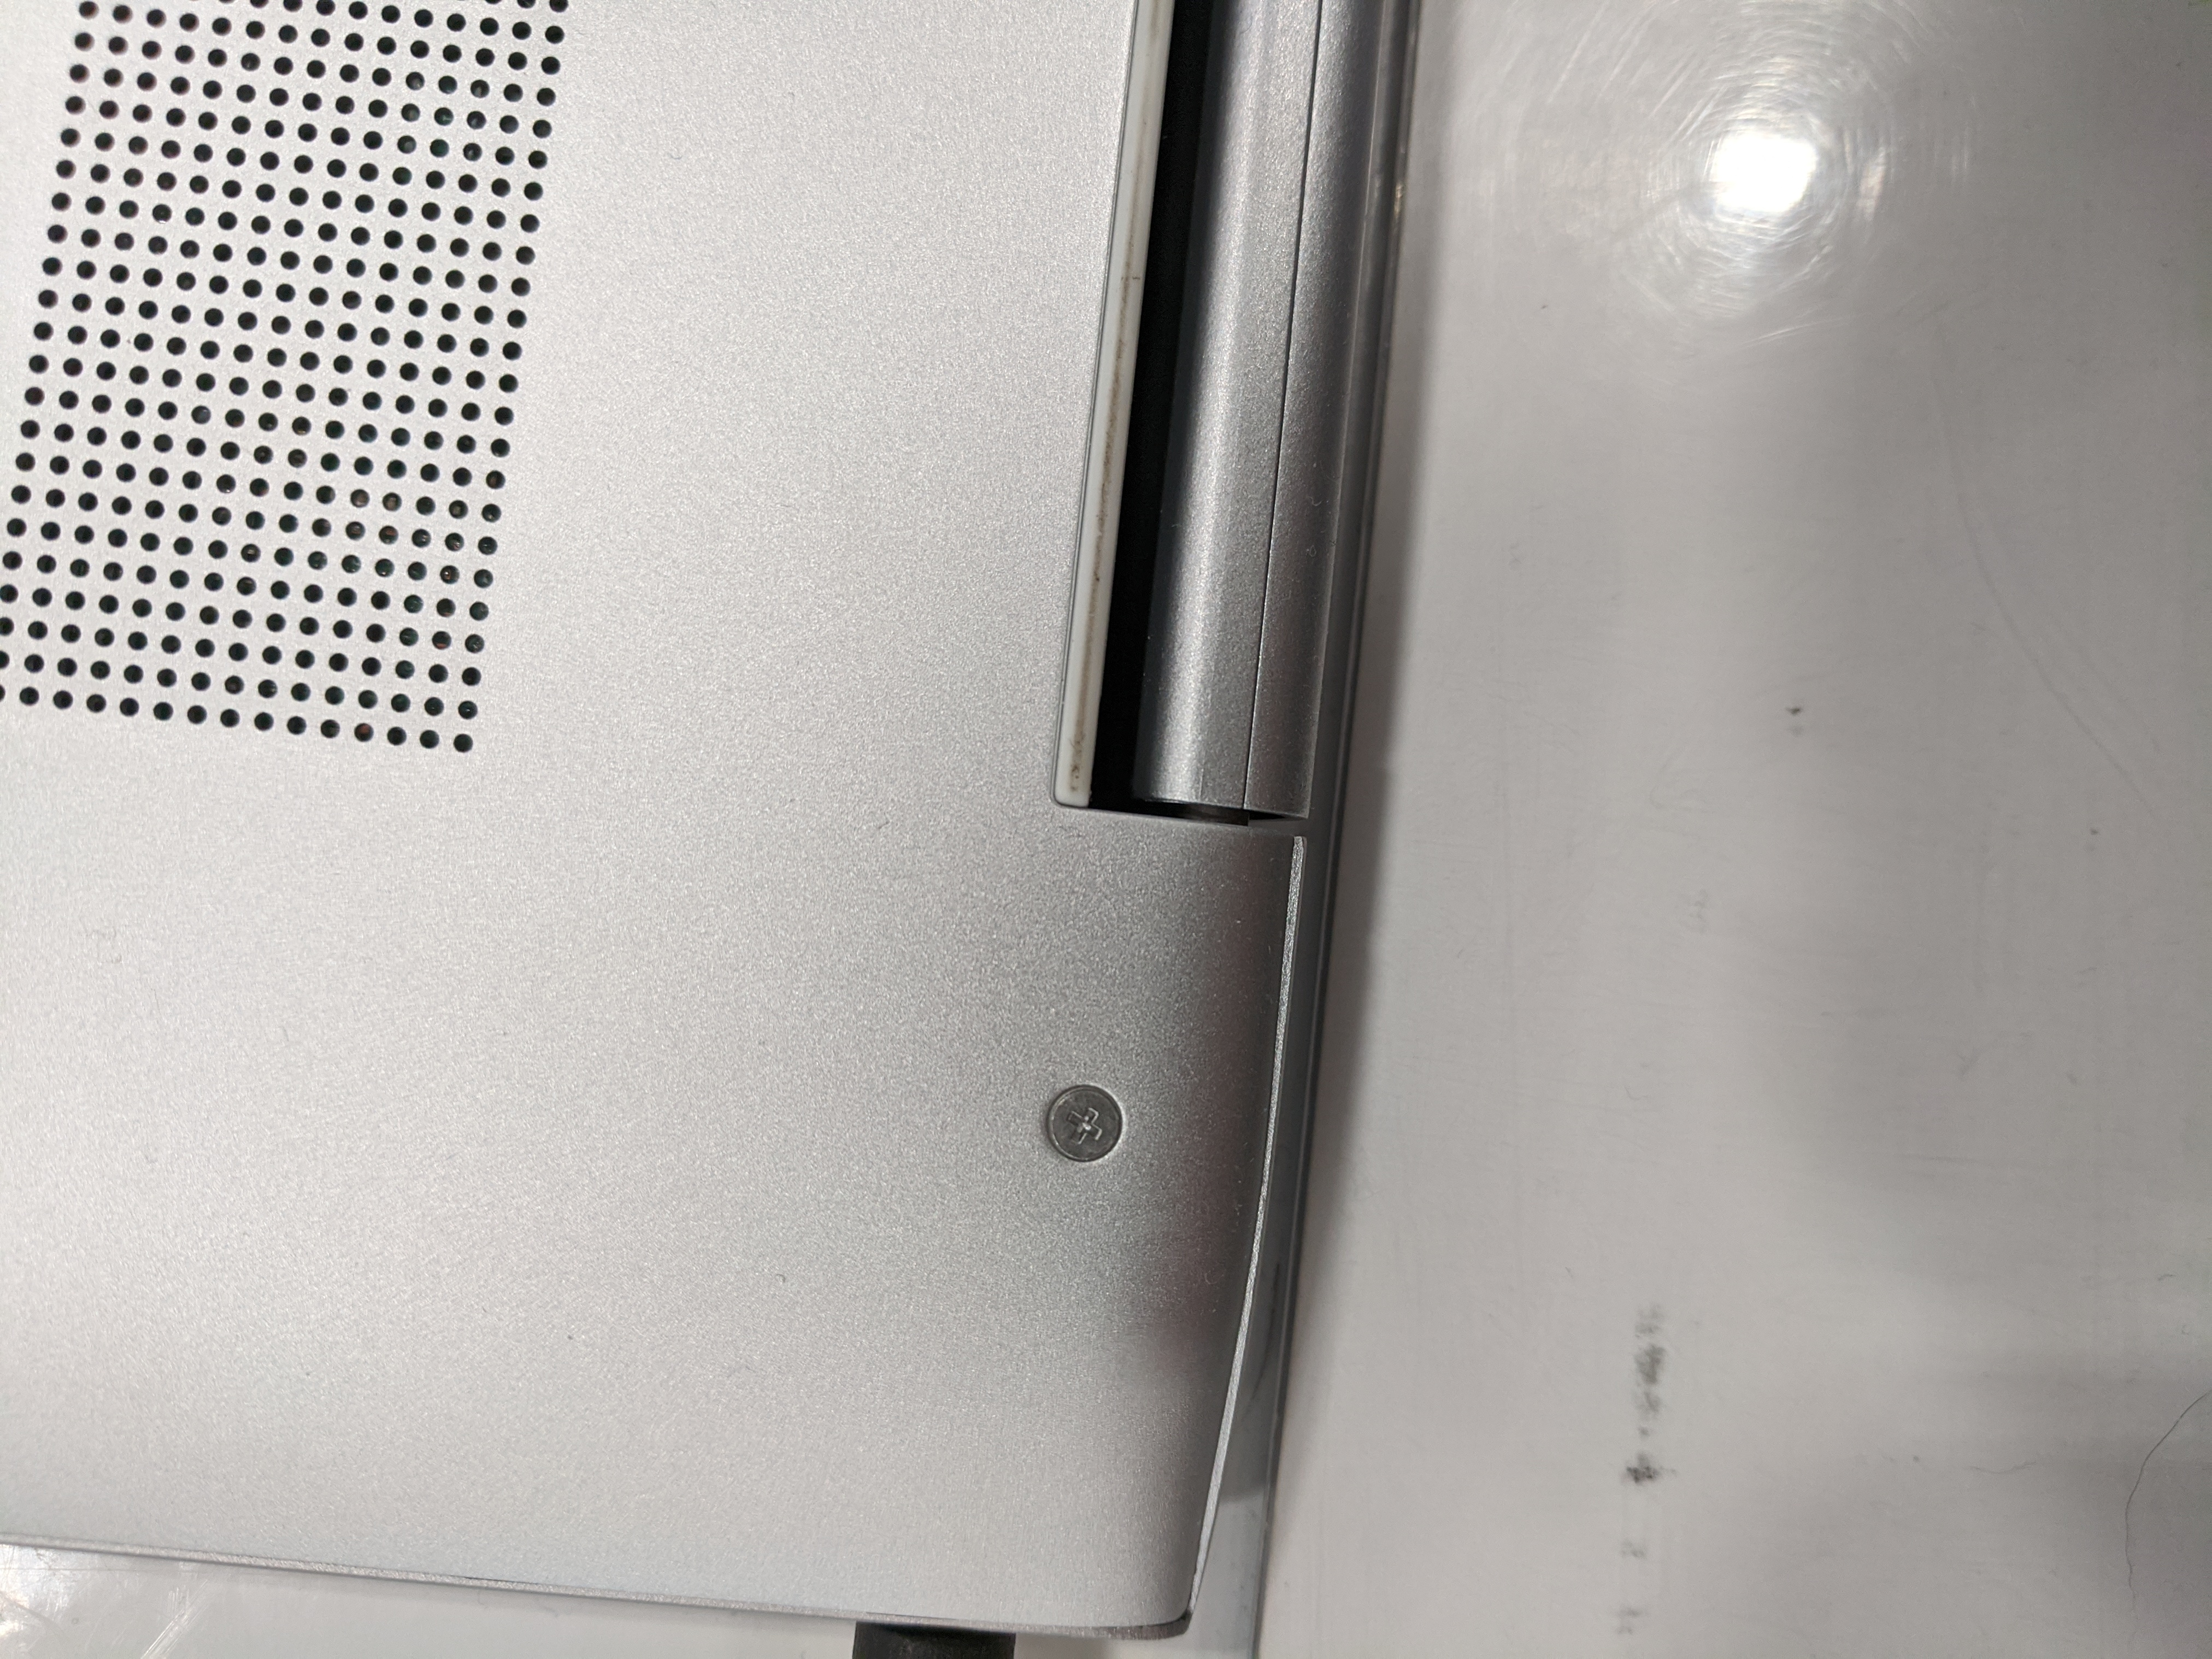cross_recessed_screw: (1045, 1073, 1132, 1168)
